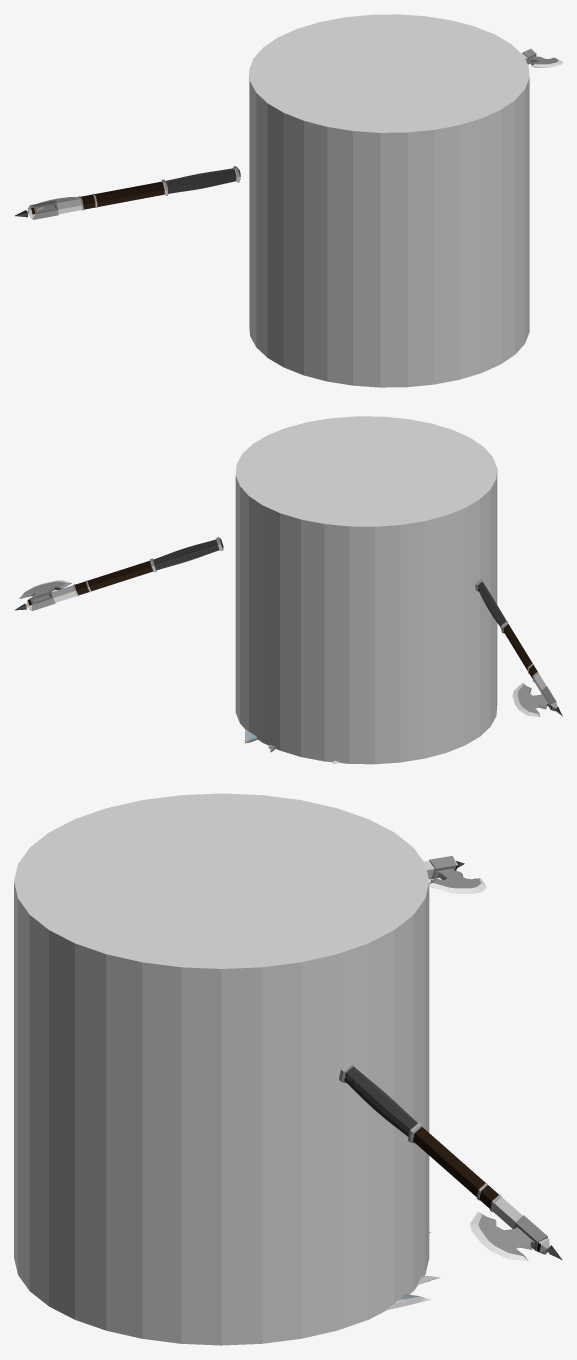
Rendered from Low poly combat axes.glb.
3 renders of one model, top to bottom at view 1: azimuth 30°, elevation 25°; view 2: azimuth 150°, elevation 25°; view 3: azimuth 270°, elevation 25°, orthographic. The views are drawn at different scales.
Visible parts, largest first — view 1: Cylinder, Axe10.002; view 2: Cylinder, Axe10.001, Axe10.002; view 3: Cylinder, Axe10.001, Axe10.002.
Boxes of the visible parts, x1,y1,x2,y2 form: Cylinder: [249, 14, 529, 387]; Axe10.002: [15, 166, 240, 219]; Cylinder: [235, 416, 497, 764]; Axe10.001: [14, 537, 223, 610]; Axe10.002: [475, 578, 562, 717]; Cylinder: [14, 793, 429, 1345]; Axe10.001: [339, 1061, 562, 1261]; Axe10.002: [424, 856, 486, 893].
Bounding box in the file's own units: 2.86 × 1.27 × 1.63.
2 materials, 2 textured.
